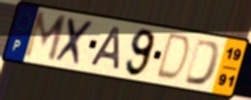9: (124, 28, 158, 78)
A: (88, 25, 123, 72)
D: (182, 37, 223, 89), (153, 32, 193, 84)
M: (21, 10, 69, 65)
X: (52, 16, 98, 69)
